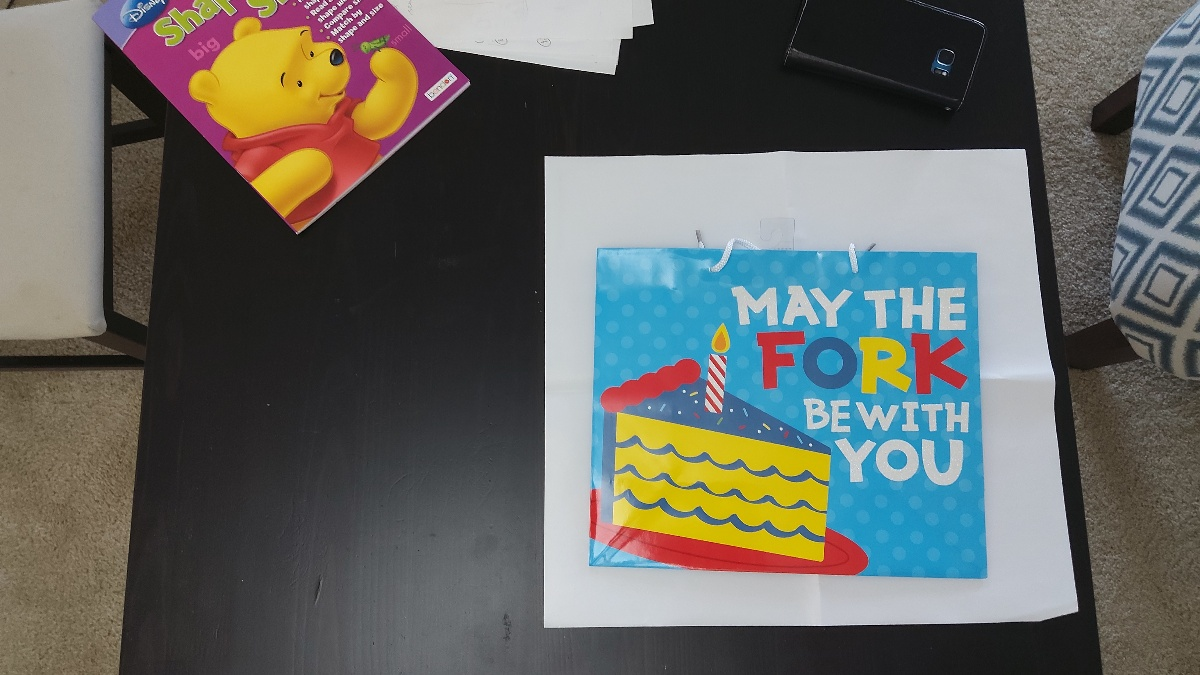paper_bag: (594, 247, 981, 574)
